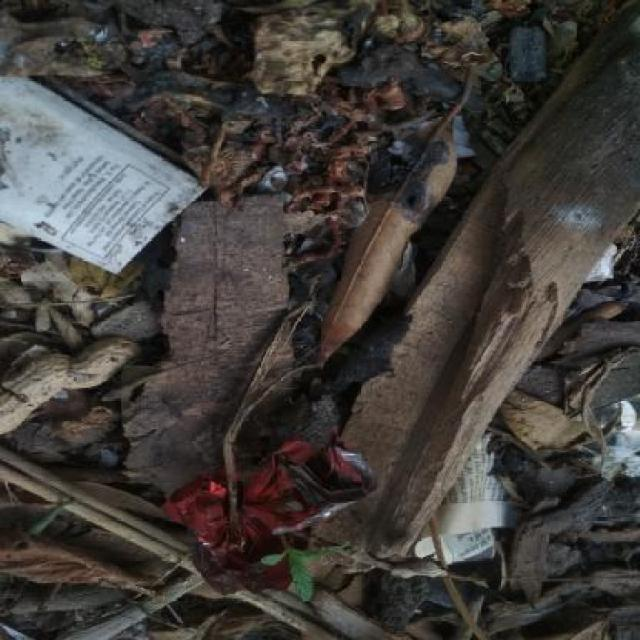garbage: (2, 5, 401, 340), (12, 357, 430, 626), (420, 6, 640, 274), (446, 369, 640, 640)
